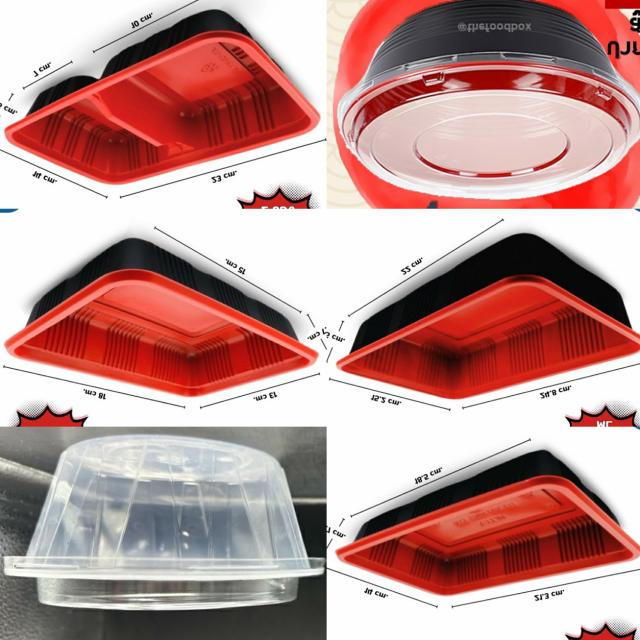plastik: (338, 0, 640, 199), (5, 435, 324, 610), (5, 10, 321, 185), (337, 235, 640, 398), (6, 240, 317, 397), (337, 452, 640, 596)
